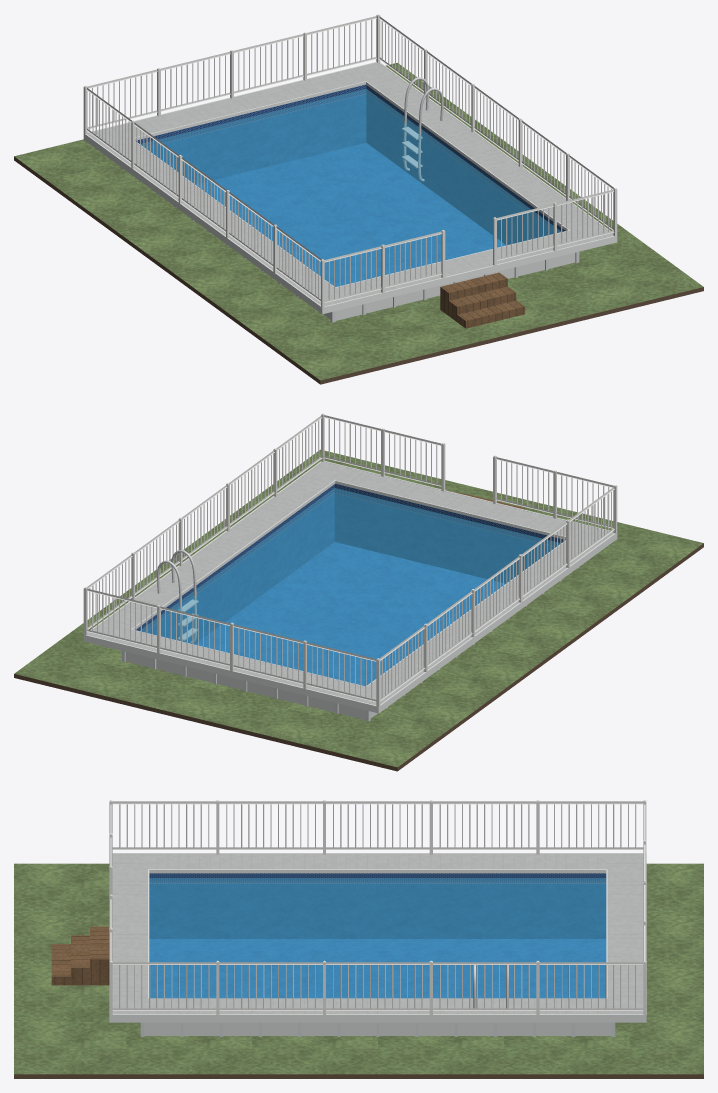
The model's file is kayak-pool-16x24-white-walk-rec-fence.3fd242f75f.glb.
3 views of the same model, one above another, from view 1: azimuth 30°, elevation 25°; view 2: azimuth 150°, elevation 25°; view 3: azimuth 270°, elevation 25° (orthographic). The views are drawn at different scales.
Visible parts, largest first — view 1: water, ground, fence, liner_floor, liner_wall, deck, fascia, steps, soil, wall, steel; view 2: water, ground, fence, liner_floor, liner_wall, deck, fascia, soil, wall, steel; view 3: water, ground, liner_wall, deck, liner_floor, fence, fascia, wall, soil, steps, upright.
Part boxes in pixels (x1,y1,x2,y2): water: (141, 89, 560, 286); ground: (14, 63, 703, 380); fence: (83, 14, 617, 307); liner_floor: (195, 143, 505, 286); liner_wall: (135, 84, 565, 244); deck: (87, 62, 613, 306); fascia: (83, 61, 617, 314); steps: (440, 272, 524, 328); soil: (14, 156, 703, 384); wall: (323, 253, 575, 320); steel: (402, 77, 443, 181); water: (140, 488, 560, 685); ground: (14, 449, 703, 767); fence: (83, 413, 617, 706); liner_floor: (195, 542, 505, 685); liner_wall: (136, 483, 565, 644); deck: (87, 461, 613, 705); fascia: (83, 461, 617, 713); soil: (14, 543, 703, 771); wall: (125, 652, 377, 719); steel: (157, 550, 198, 643); water: (149, 878, 606, 998); ground: (14, 863, 703, 1074); liner_wall: (149, 873, 606, 938); deck: (112, 854, 643, 1014); liner_floor: (149, 939, 606, 998); fence: (109, 800, 646, 1014); fascia: (109, 853, 646, 1022); wall: (144, 1022, 611, 1035); soil: (14, 1074, 703, 1078); steps: (51, 926, 109, 985); upright: (140, 1022, 615, 1036).
Bounding box in the file's own units: 7.92 × 2.15 × 10.97.
13 materials, 5 textured.
